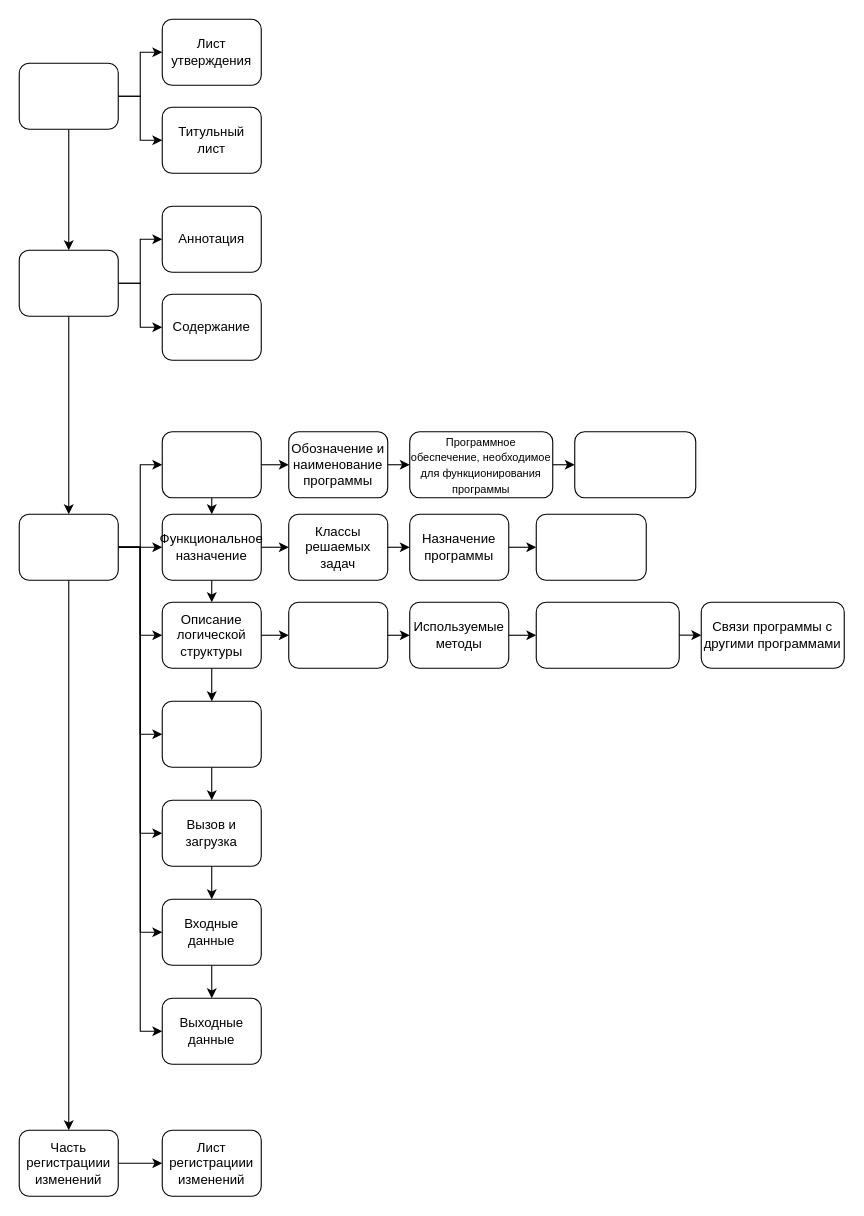
The diagram is 864 pixels wide and 1216 high, and some of its shapes have lost their labels. The box of each missing label's shape, as (x1, y1, x2, y2) in pixels:
Алгоритм программы: (288, 601, 388, 668)
Информацио нная часть: (18, 249, 118, 316)
Используемые технические средства: (161, 700, 261, 767)
Общие сведения: (161, 431, 261, 498)
Основная часть: (18, 513, 118, 580)
Сведения о функциональных ограничениях на применение: (535, 513, 646, 580)
Структура программы с описанием функций составных частей и связи между ними: (535, 601, 679, 668)
Титульная часть: (18, 62, 118, 129)
Языки программирования, на которых написана программа: (574, 431, 696, 498)
